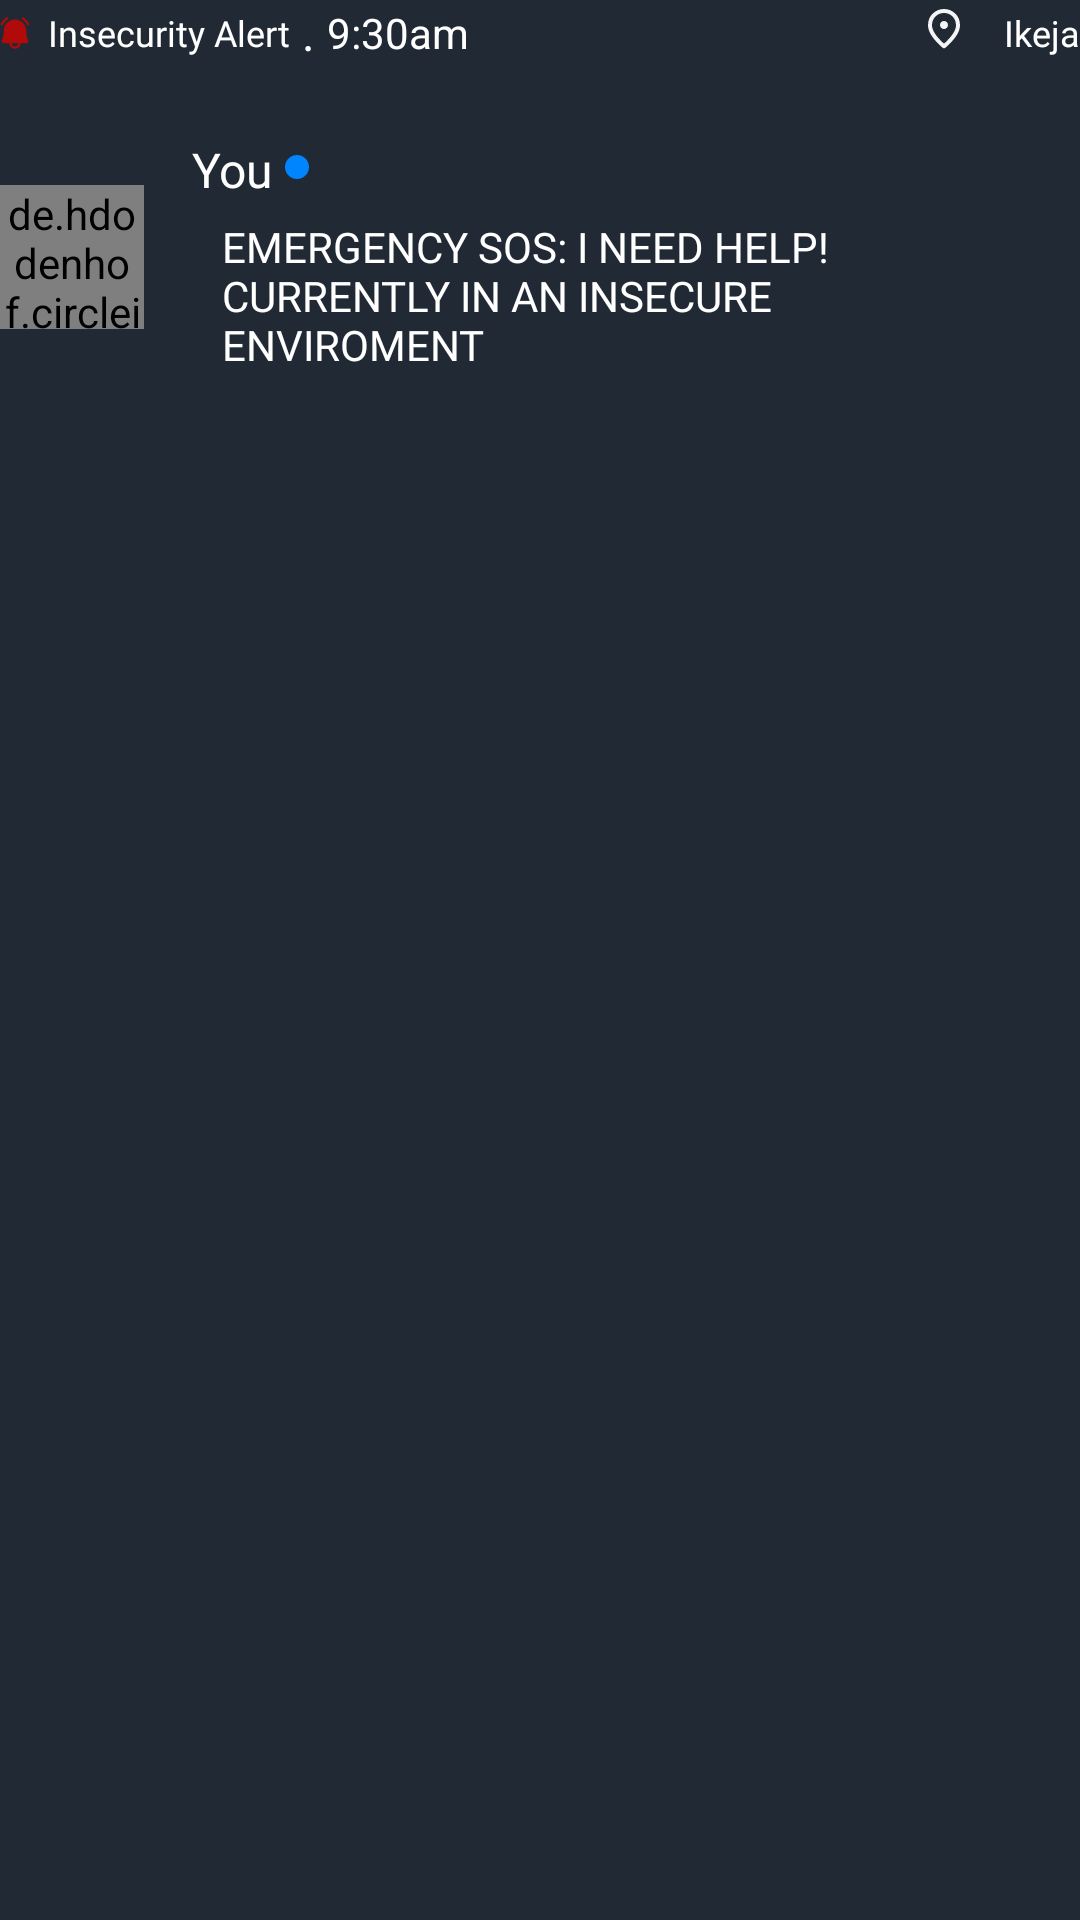

Where icons sit on this 1080×1920 app screen, as (x1, y1, x2, y2):
location alert: (928, 9, 960, 49)
